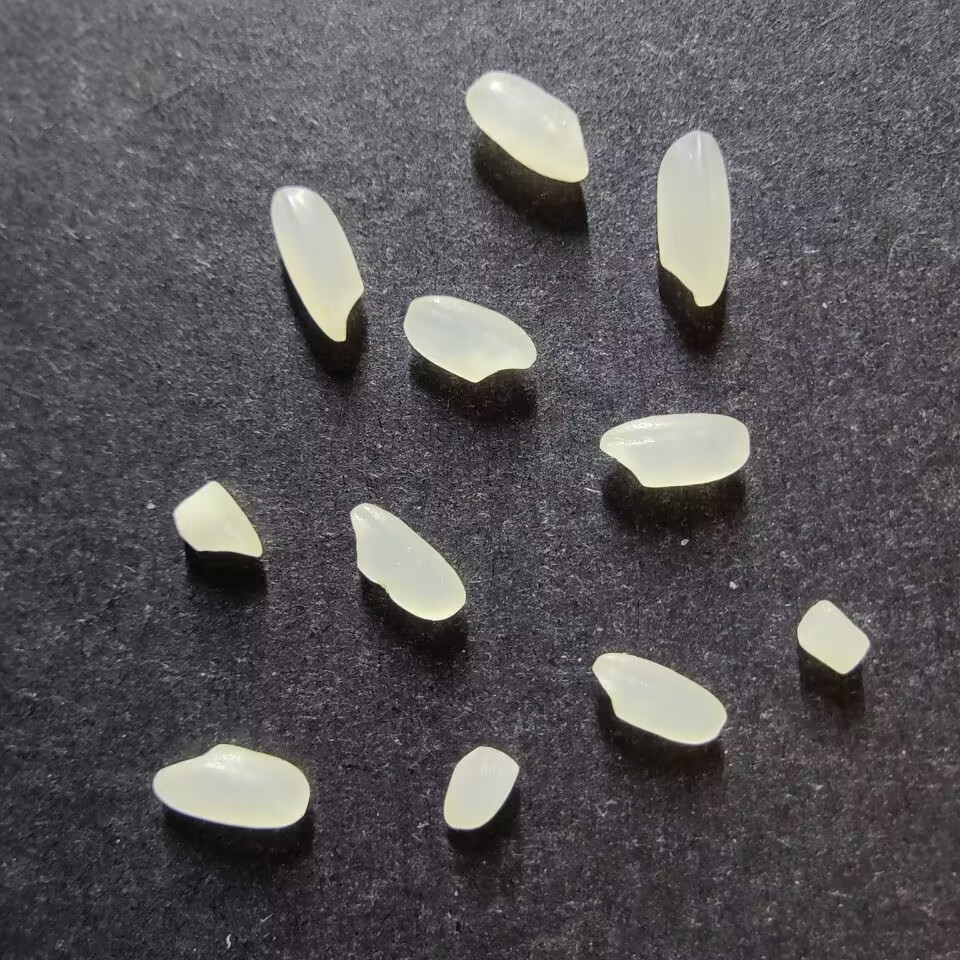broken: (172, 478, 265, 558), (443, 744, 520, 830), (796, 598, 871, 676)
rice: (269, 186, 365, 342), (464, 70, 589, 184), (348, 502, 466, 622), (151, 742, 310, 830), (654, 130, 731, 308), (591, 652, 727, 745), (402, 295, 538, 384), (598, 412, 749, 488)
